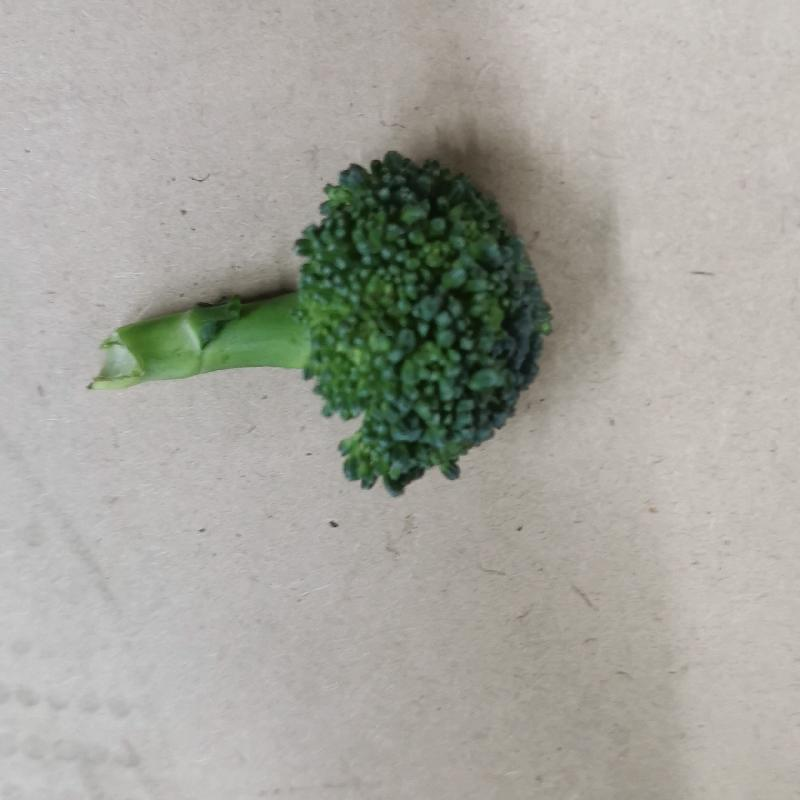broccoli: (88, 150, 553, 503)
